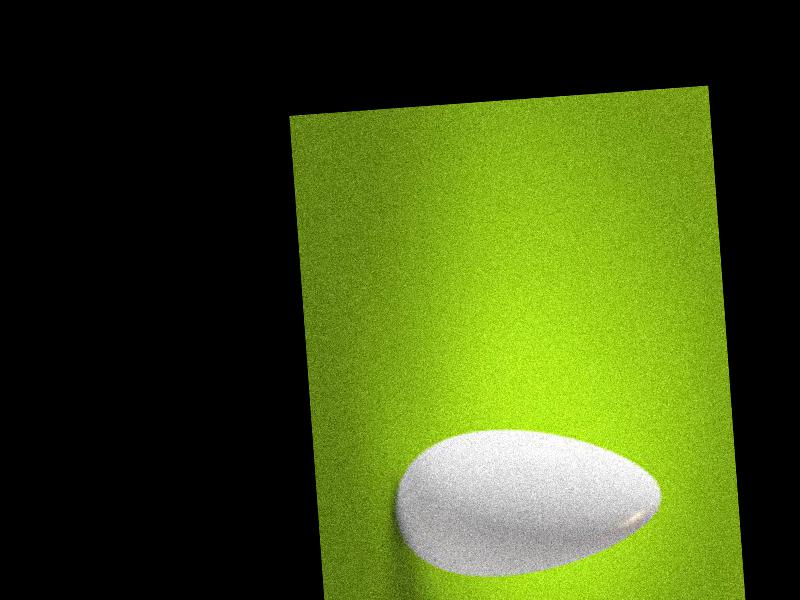Eggs: (392, 418, 669, 583)
